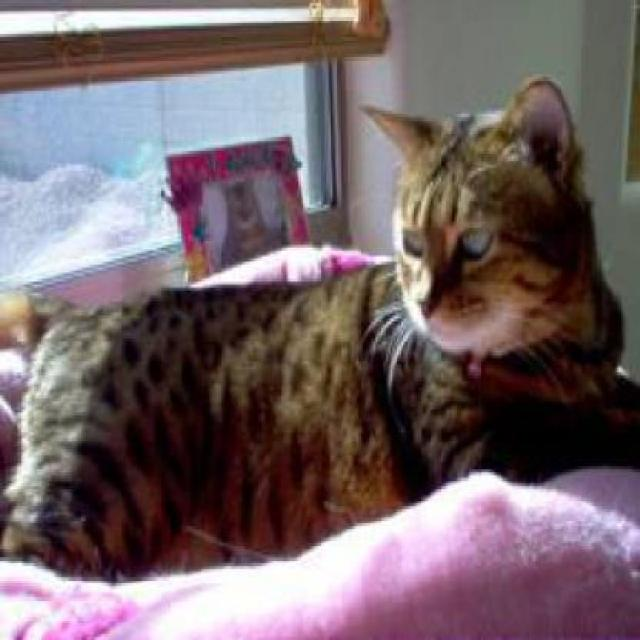cat: (2, 77, 638, 586)
